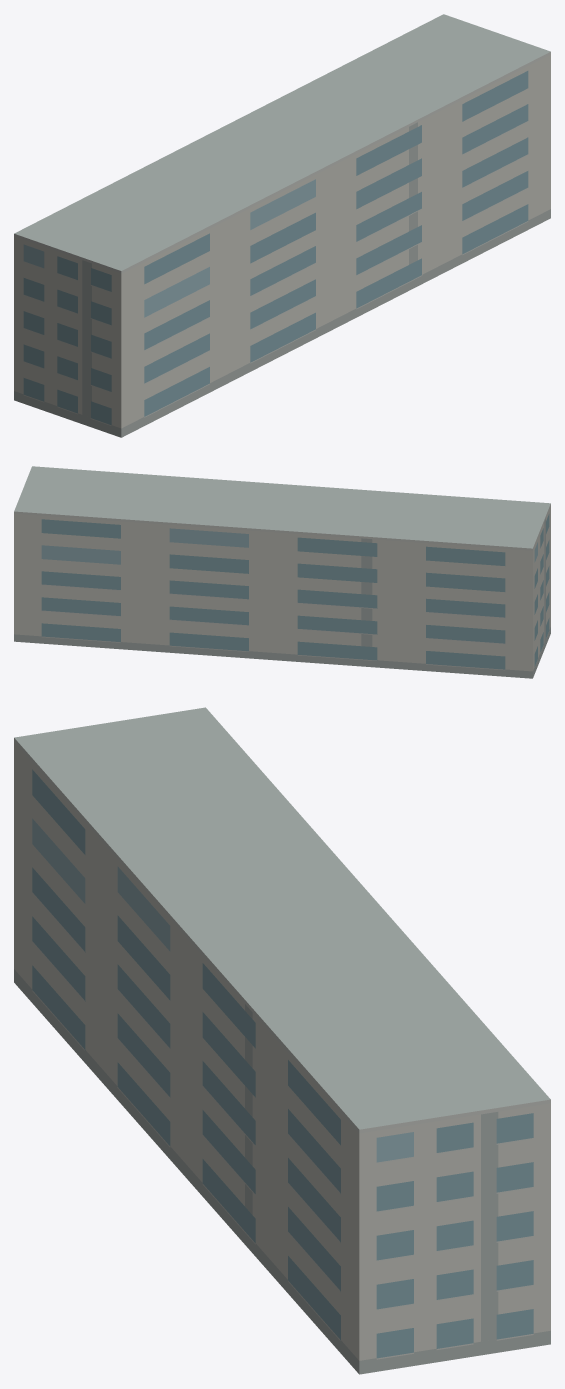
Rendered from residential-13b22aa4-66b9-48d8-9e93-02f135f91534.glb.
3 renders of one model, top to bottom at view 1: azimuth 30°, elevation 25°; view 2: azimuth 150°, elevation 25°; view 3: azimuth 270°, elevation 25°, orthographic. The views are drawn at different scales.
Parts seen in each view (by area): view 1: residential-13b22aa4-66b9-48d8-9e93-02f135f91534.tmp; view 2: residential-13b22aa4-66b9-48d8-9e93-02f135f91534.tmp; view 3: residential-13b22aa4-66b9-48d8-9e93-02f135f91534.tmp.
Part boxes in pixels (x1,y1,x2,y2): residential-13b22aa4-66b9-48d8-9e93-02f135f91534.tmp: (14, 14, 550, 437); residential-13b22aa4-66b9-48d8-9e93-02f135f91534.tmp: (14, 466, 550, 678); residential-13b22aa4-66b9-48d8-9e93-02f135f91534.tmp: (14, 707, 550, 1374).
Bounding box in the file's own units: 56.41 × 15.25 × 30.31.
